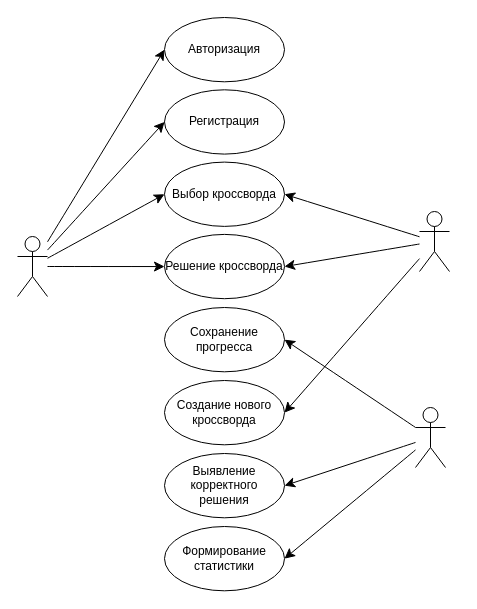
Image size: 477x609. Some labels were removed from this diagram. The shapes that lost their labels are listed below. From the top down, each one's centre as x and y in pixels, then its label:
the point at 434,241: Admin
the point at 32,266: User
the point at 430,437: System
